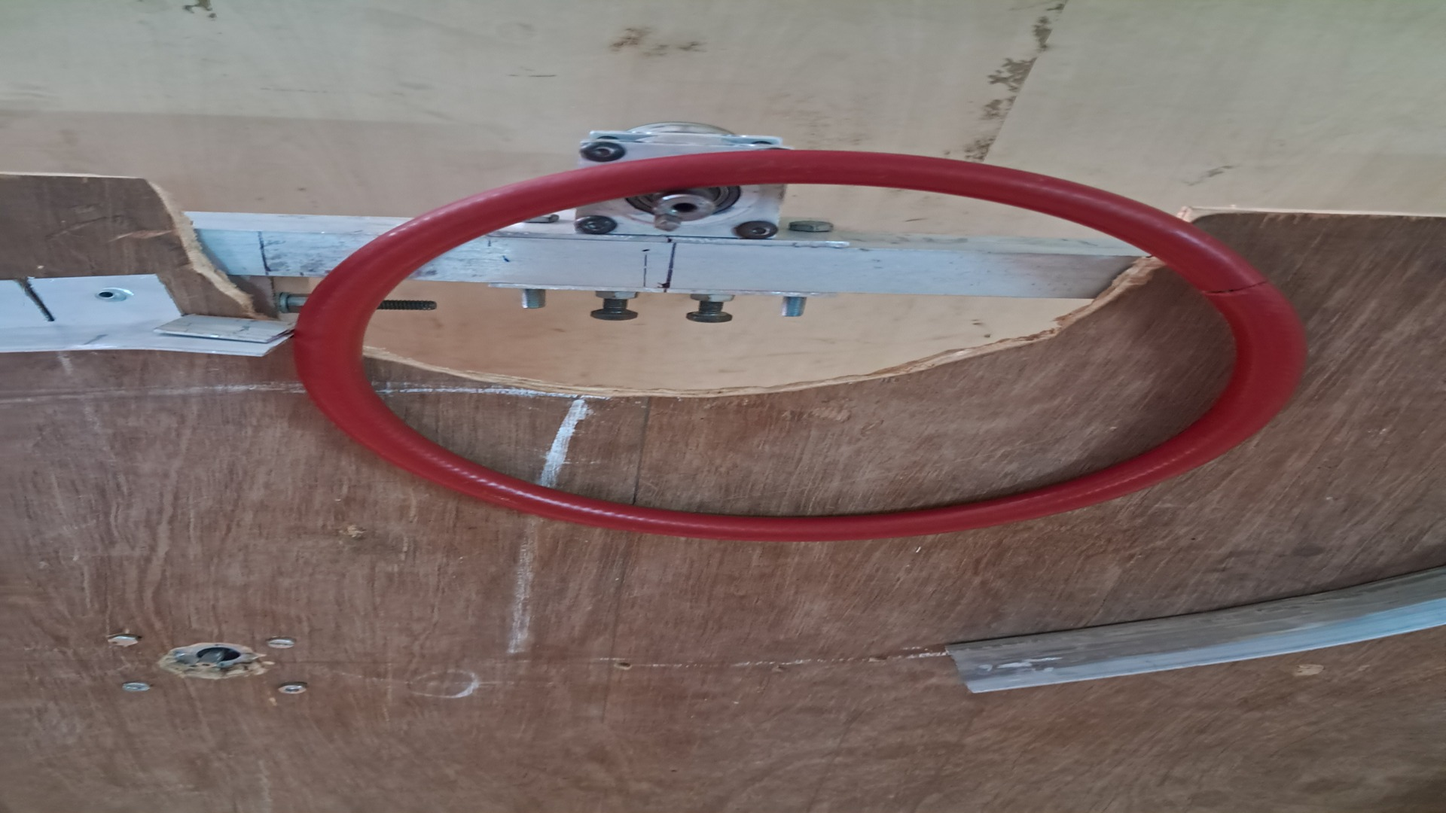Red ring: (296, 155, 1302, 543)
